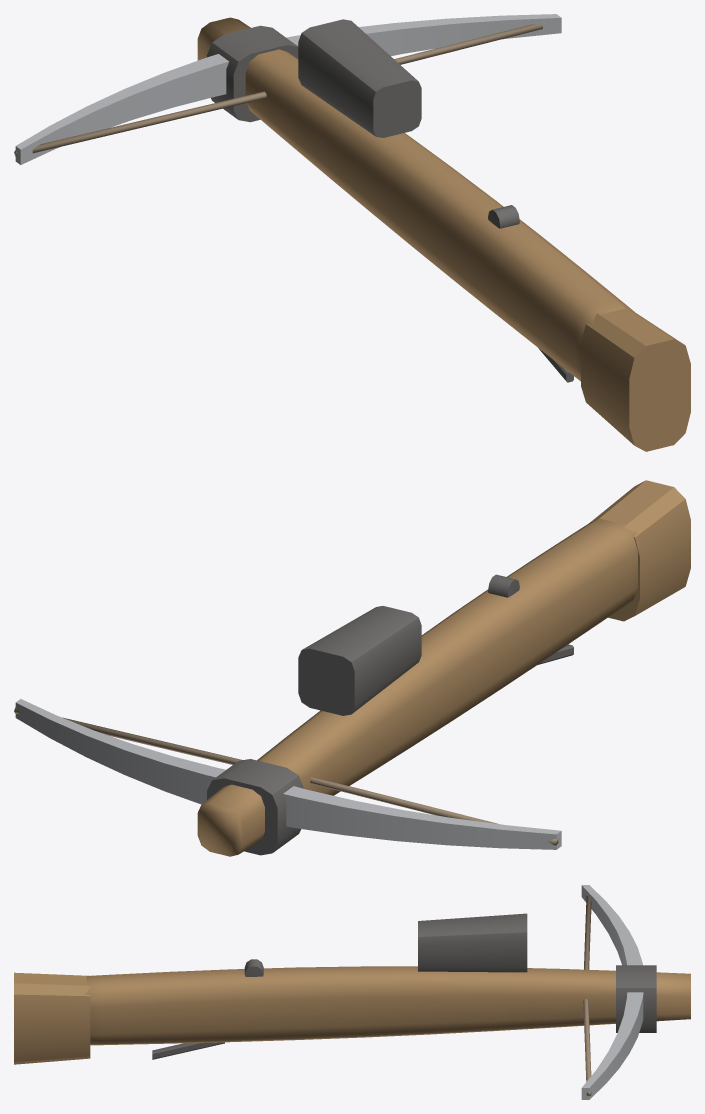
The model's file is dwarven-light-pelletbow.glb.
3 views of the same model, one above another, from view 1: azimuth 30°, elevation 25°; view 2: azimuth 150°, elevation 25°; view 3: azimuth 270°, elevation 25° (orthographic). The views are drawn at different scales.
Visible parts, largest first — view 1: dwarven-light-pelletbow; view 2: dwarven-light-pelletbow; view 3: dwarven-light-pelletbow.
Part boxes in pixels (left/top/right/bottom): dwarven-light-pelletbow: left=14, top=14, right=690, bottom=451; dwarven-light-pelletbow: left=14, top=480, right=690, bottom=856; dwarven-light-pelletbow: left=14, top=885, right=690, bottom=1099.
Bounding box in the file's own units: 1.32 × 0.4219 × 1.86.
